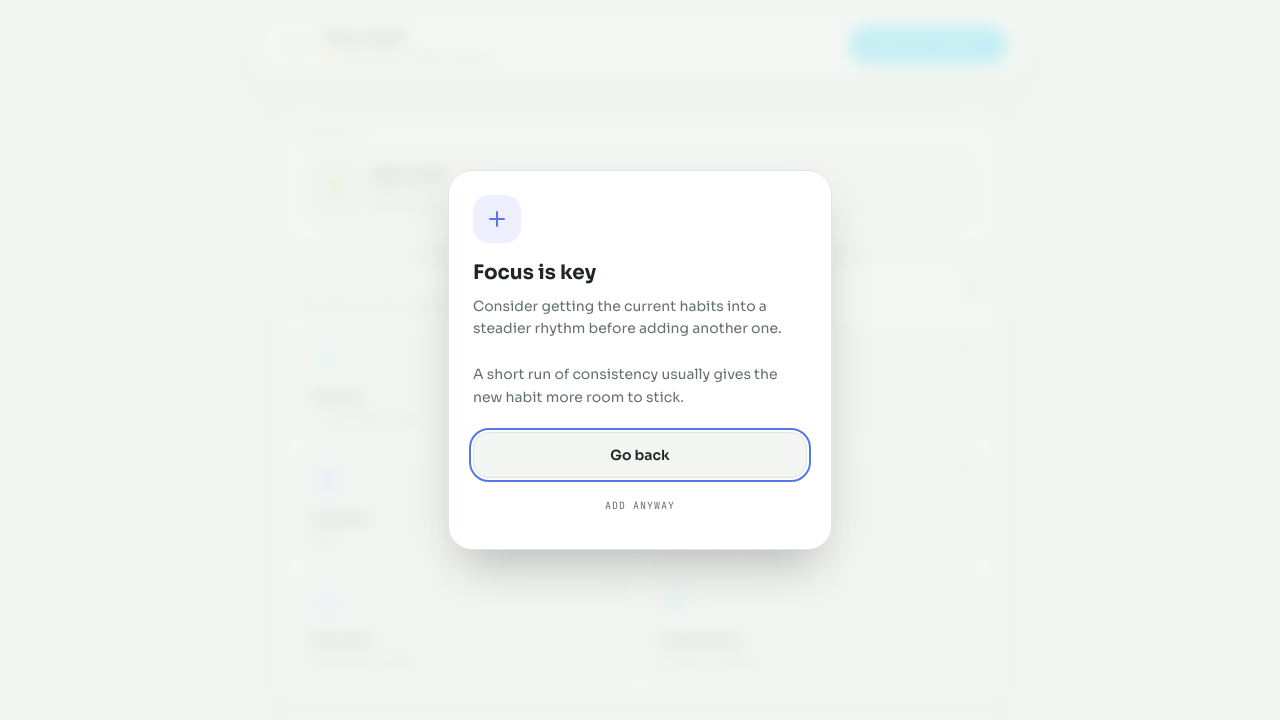
it: HabitForm › shows and dismisses the soft-limit warning for over-limit create flows
This screenshot has width=1280, height=720.
Expected: the heading "Focus is key" is shown, [473, 260, 596, 285]
Click the button "Add anyway". click: point(640, 506)
box: [473, 486, 807, 525]
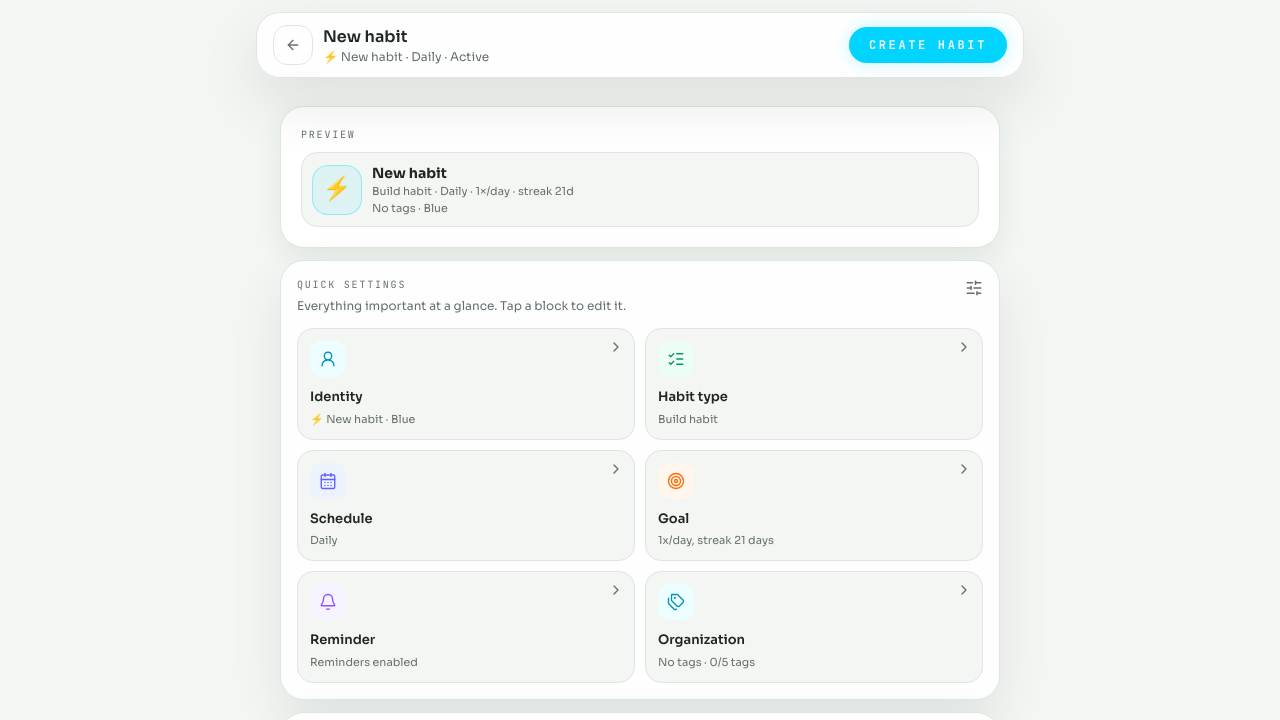
Result: the heading "Focus is key" is gone
